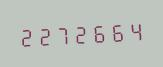four: (125, 17, 142, 43)
seven: (53, 21, 70, 47)
six: (89, 19, 106, 45), (107, 18, 124, 44)
two: (17, 23, 34, 49), (35, 22, 52, 48), (71, 20, 88, 46)
